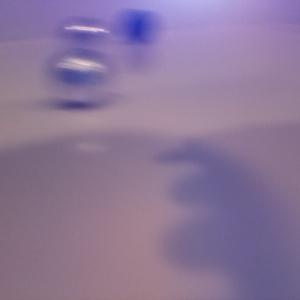alive_ball: (46, 48, 110, 105), (56, 18, 108, 54)
dead_ball: (111, 10, 160, 40)
